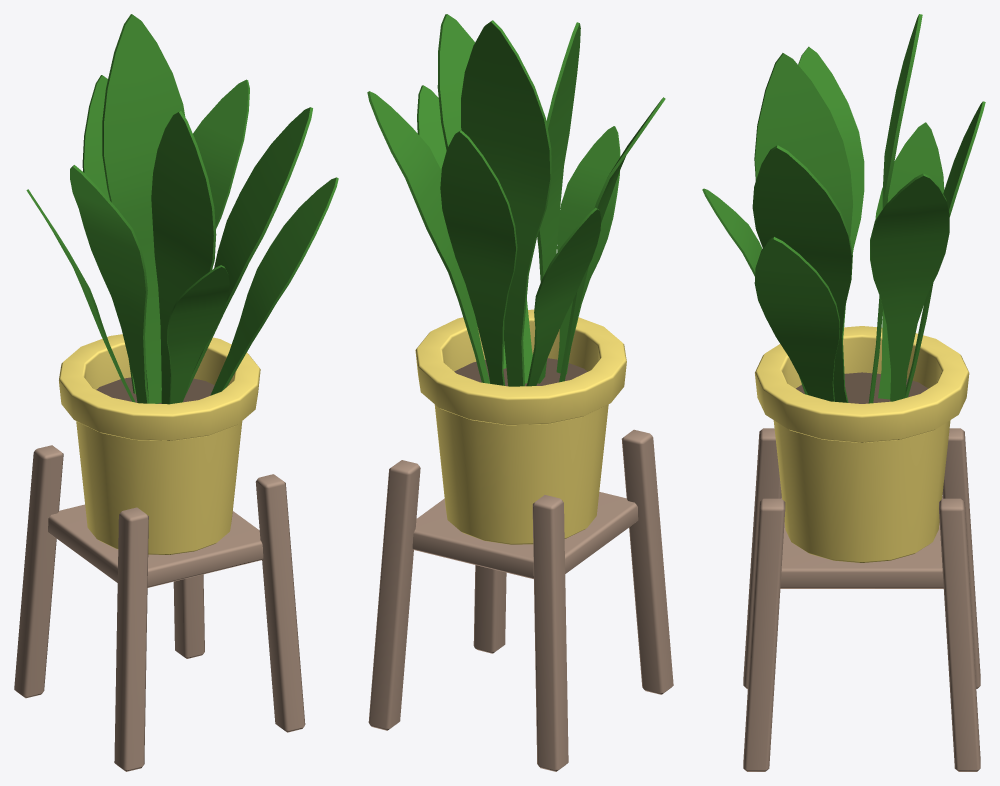
The model's file is Plant_on_stand_1.glb.
3 renders of one model, left to right at view 1: azimuth 30°, elevation 25°; view 2: azimuth 150°, elevation 25°; view 3: azimuth 270°, elevation 25°, orthographic. The views are drawn at different scales.
Parts seen in each view (by area): view 1: Plant_on_stand_1; view 2: Plant_on_stand_1; view 3: Plant_on_stand_1.
Boxes of the visible parts, x1=… form: Plant_on_stand_1: x1=14, y1=14, x2=338, y2=771; Plant_on_stand_1: x1=367, y1=14, x2=673, y2=771; Plant_on_stand_1: x1=702, y1=14, x2=985, y2=771.
Bounding box in the file's own units: 0.4542 × 1.18 × 0.424.
Materials: 1 (1 with a texture image).
